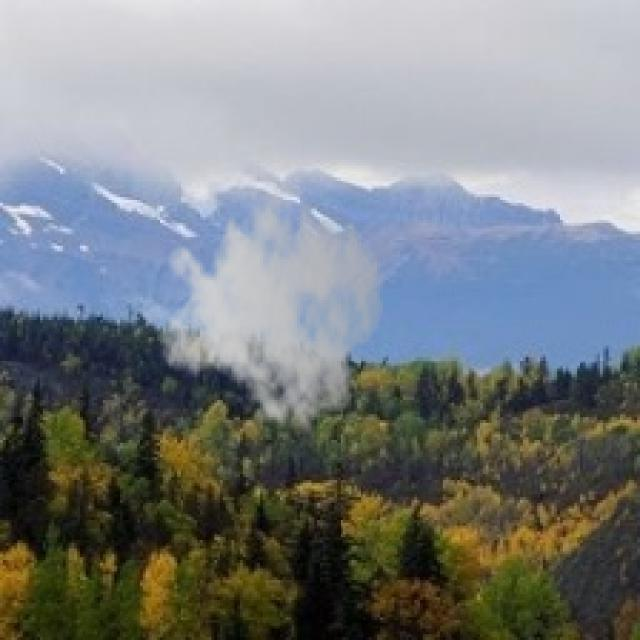smoke: (157, 172, 386, 437)
